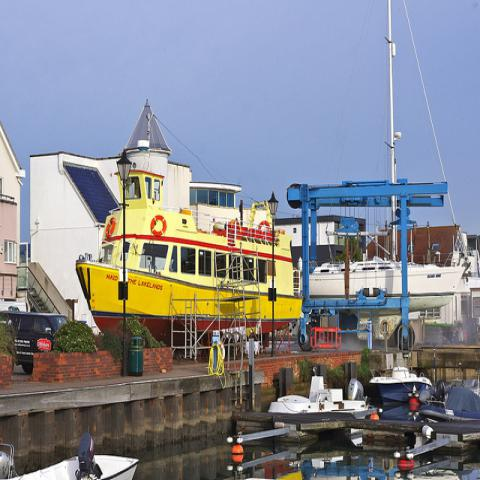car: (3, 311, 71, 375)
truck: (4, 311, 71, 375)
